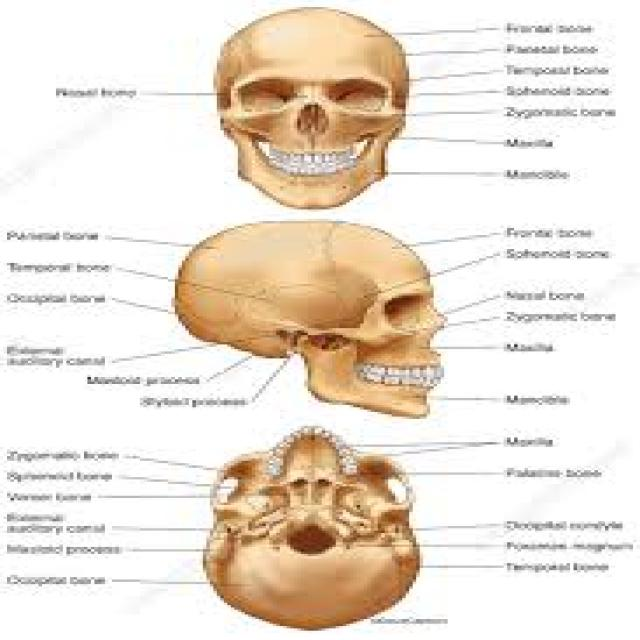skull: (162, 212, 448, 420)
